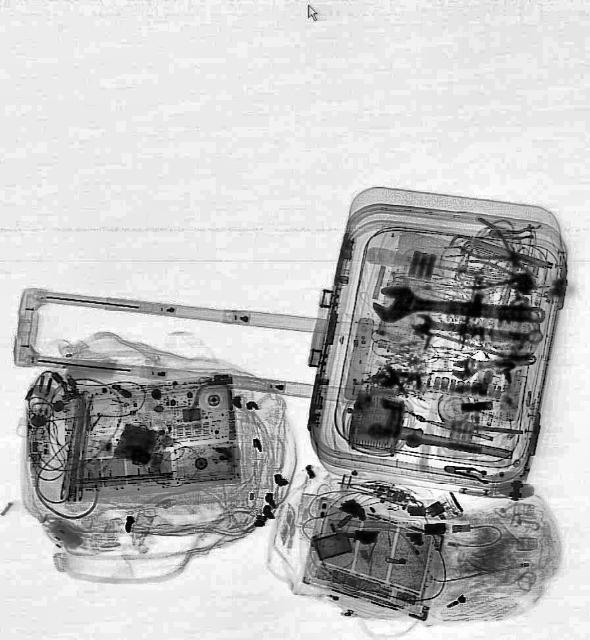Pliers: (453, 212, 555, 290), (462, 256, 540, 300)
Wrench: (372, 282, 546, 331), (411, 311, 549, 349), (448, 348, 536, 378)
